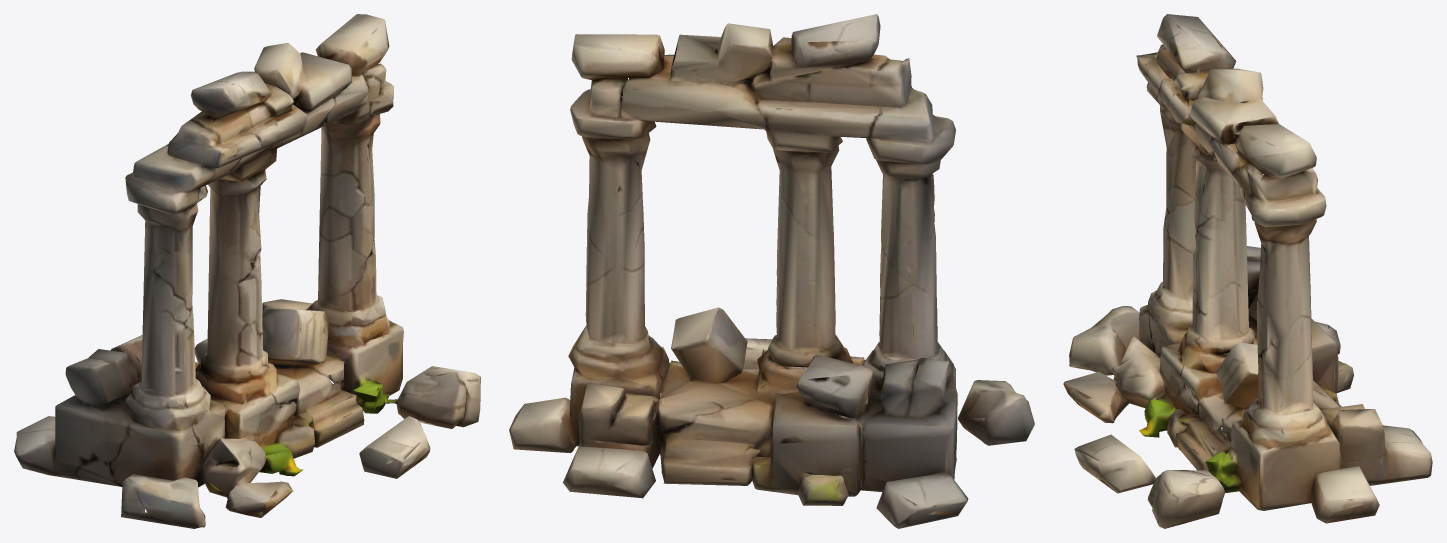
The model's file is ruin.glb.
3 renders of one model, left to right at view 1: azimuth 30°, elevation 25°; view 2: azimuth 150°, elevation 25°; view 3: azimuth 270°, elevation 25°, orthographic. The views are drawn at different scales.
Visible parts, largest first — view 1: tripo_node_4506c088; view 2: tripo_node_4506c088; view 3: tripo_node_4506c088.
Part boxes in pixels (bbox=[...]): tripo_node_4506c088: bbox=[14, 14, 480, 528]; tripo_node_4506c088: bbox=[509, 14, 1034, 528]; tripo_node_4506c088: bbox=[1063, 14, 1432, 528].
Bounding box in the file's own units: 99.56 × 91.63 × 77.94.
1 material, 1 textured.
